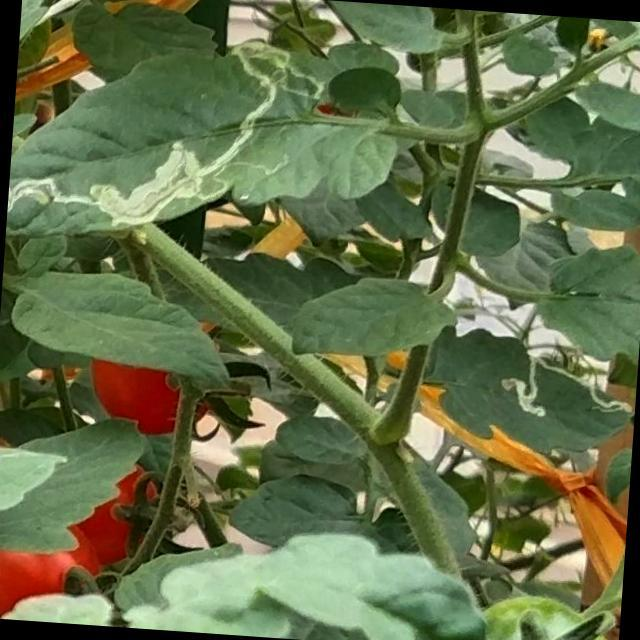Tomato target spot leaf: (5, 19, 405, 264), (422, 322, 638, 462)
